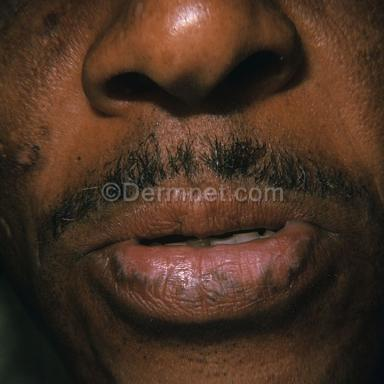Lupus-Erythematosus-Chronicus-Discoides: (111, 221, 318, 301)
